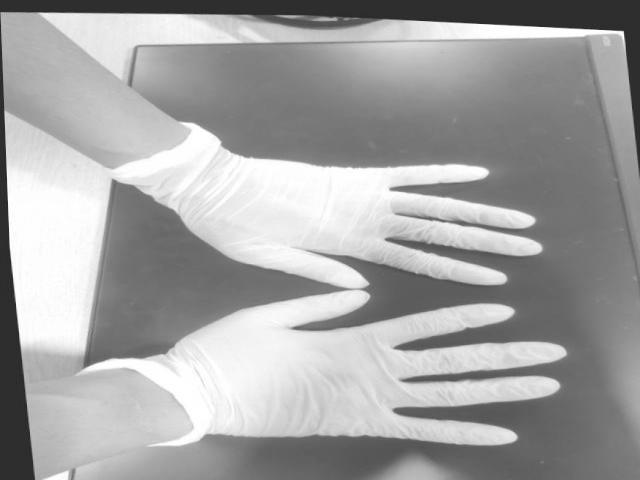gloved: (205, 288, 568, 446), (213, 162, 546, 292)
